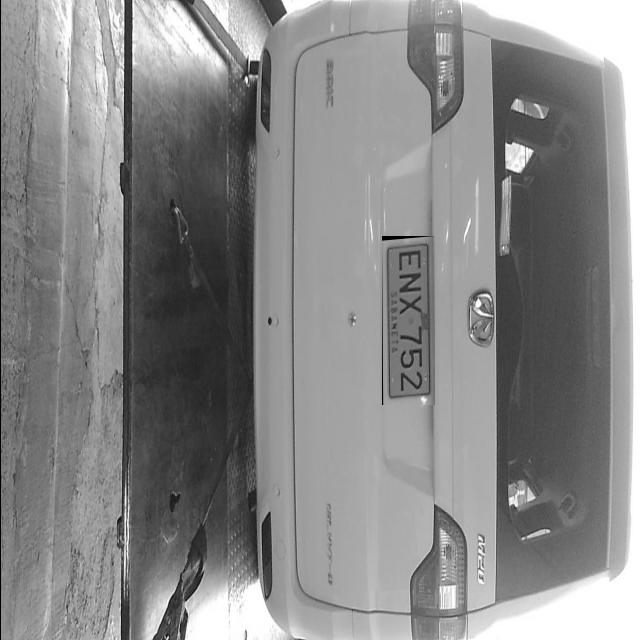plate: (381, 238, 434, 405)
